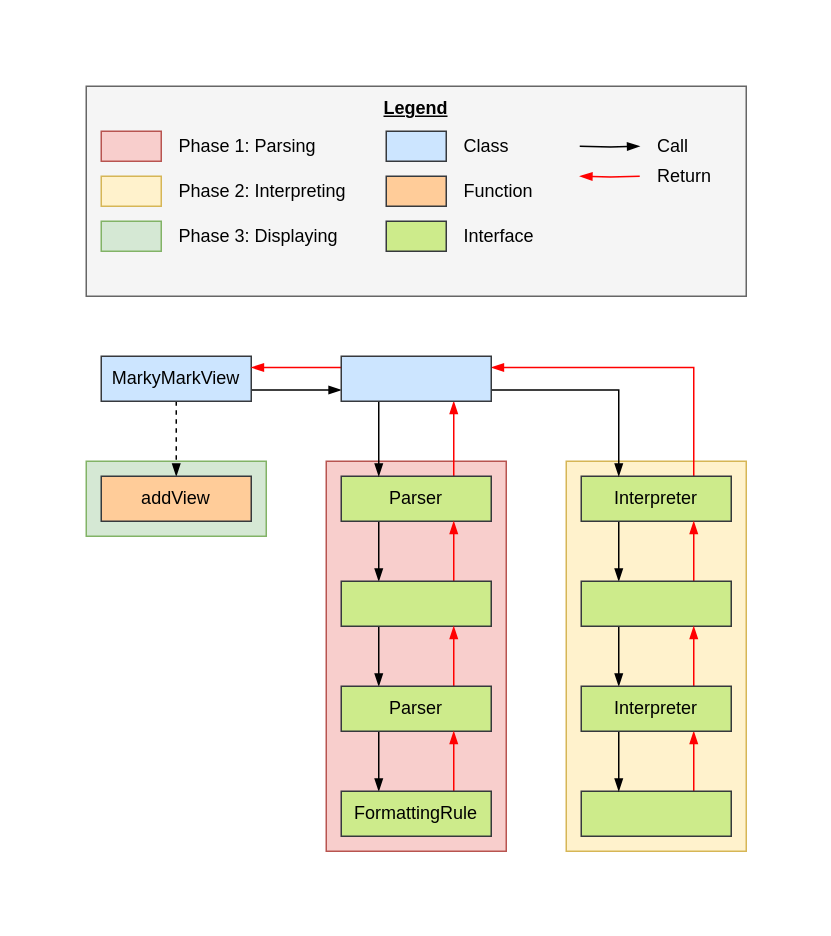
The diagram is 831 pixels wide and 936 high, and some of its shapes have lost their labels. The centre of each missing label's shape, as x and y in pixels:
BlockRule: pixel 415 603
Builder: pixel 655 603
Formatter: pixel 655 813
MarkyMark: pixel 415 378
